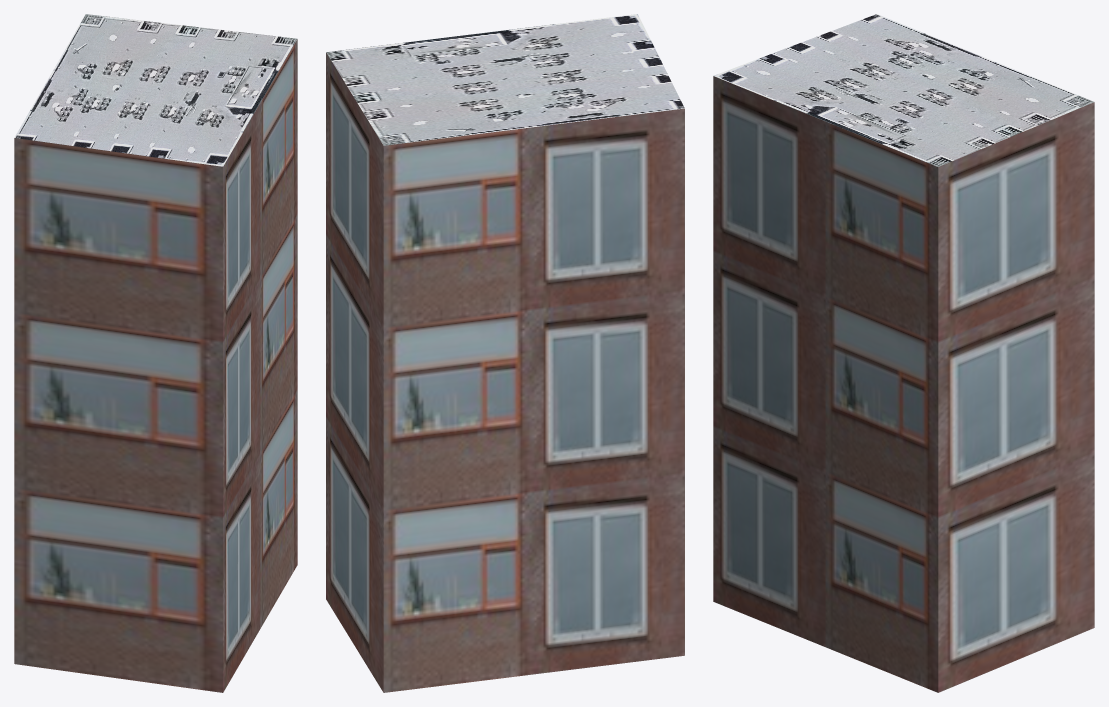
Rendered from ResTex__2288.fbx.
The picture shows the model from 3 angles, left to right: view 1: azimuth 30°, elevation 25°; view 2: azimuth 150°, elevation 25°; view 3: azimuth 270°, elevation 25°; orthographic projection. The views are drawn at different scales.
Visible parts, largest first — view 1: CityEngineMaterial_19_m, CityEngineMaterial_15_m; view 2: CityEngineMaterial_19_m, CityEngineMaterial_15_m; view 3: CityEngineMaterial_19_m, CityEngineMaterial_15_m.
Boxes of the visible parts, x1,y1,x2,y2 form: CityEngineMaterial_19_m: (14, 39, 297, 692); CityEngineMaterial_15_m: (14, 14, 297, 166); CityEngineMaterial_19_m: (326, 52, 684, 692); CityEngineMaterial_15_m: (326, 14, 684, 145); CityEngineMaterial_19_m: (713, 76, 1094, 692); CityEngineMaterial_15_m: (713, 14, 1094, 166).
Bounding box in the file's own units: 5.62 × 9 × 5.92.
2 materials, 2 textured.
